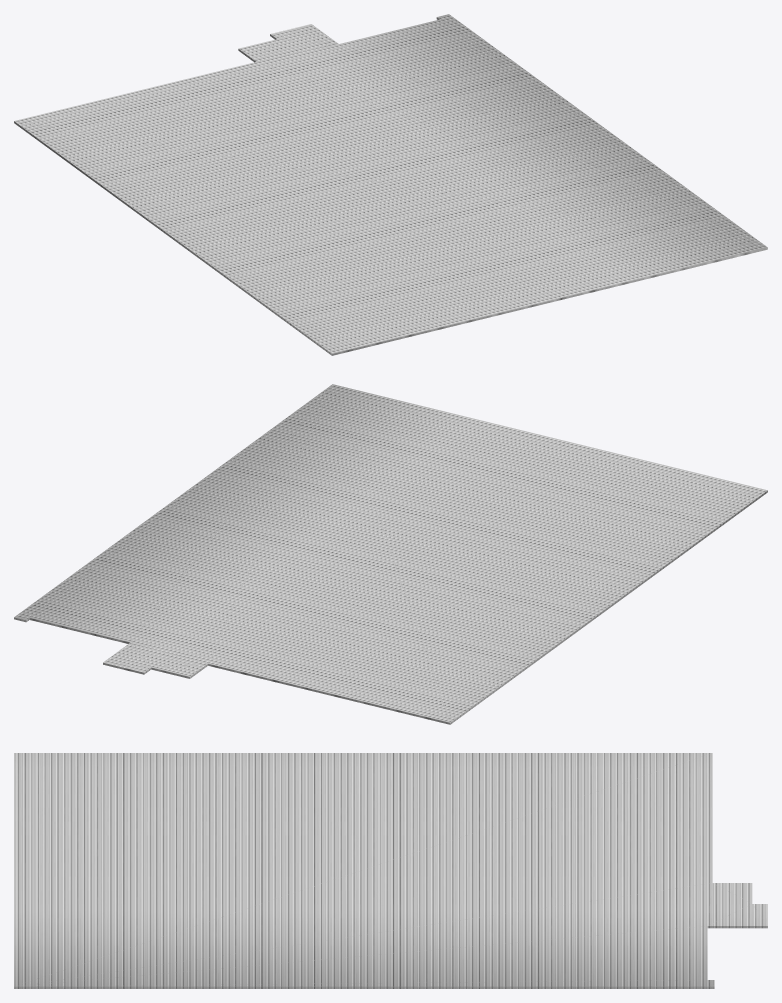
Rendered from UT-ROOF.glb.
3 views of the same model, one above another, from view 1: azimuth 30°, elevation 25°; view 2: azimuth 150°, elevation 25°; view 3: azimuth 270°, elevation 25° (orthographic). The views are drawn at different scales.
Parts seen in each view (by area): view 1: ROOF; view 2: ROOF; view 3: ROOF.
Boxes of the visible parts, left/top/right/bottom form: ROOF: left=14, top=14, right=767, bottom=355; ROOF: left=14, top=384, right=767, bottom=724; ROOF: left=14, top=753, right=767, bottom=988.
Size of the model in its own units: 33.72 by 0.15 by 45.99.
Materials: 1 (1 with a texture image).
